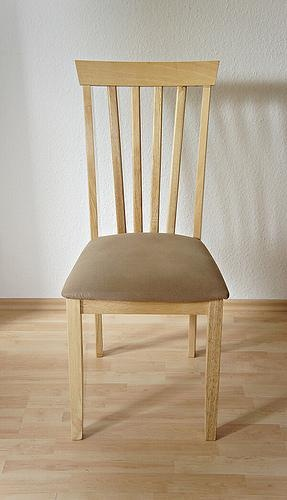obstacle: (62, 60, 228, 439)
